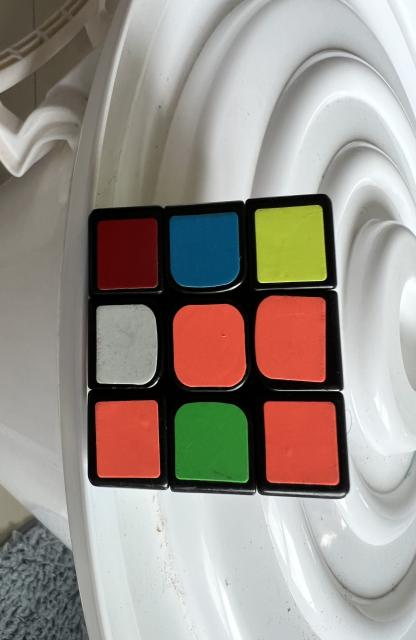Blue: (169, 212, 239, 288)
Green: (174, 402, 249, 484)
Orange: (263, 401, 339, 485), (172, 304, 247, 388), (255, 296, 326, 382), (95, 400, 160, 479)
Red: (98, 218, 158, 290)
White: (96, 305, 157, 385)
Yellow: (255, 205, 327, 284)
